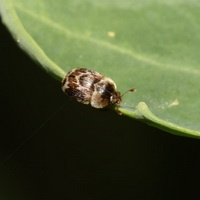insect: (62, 68, 135, 108)
